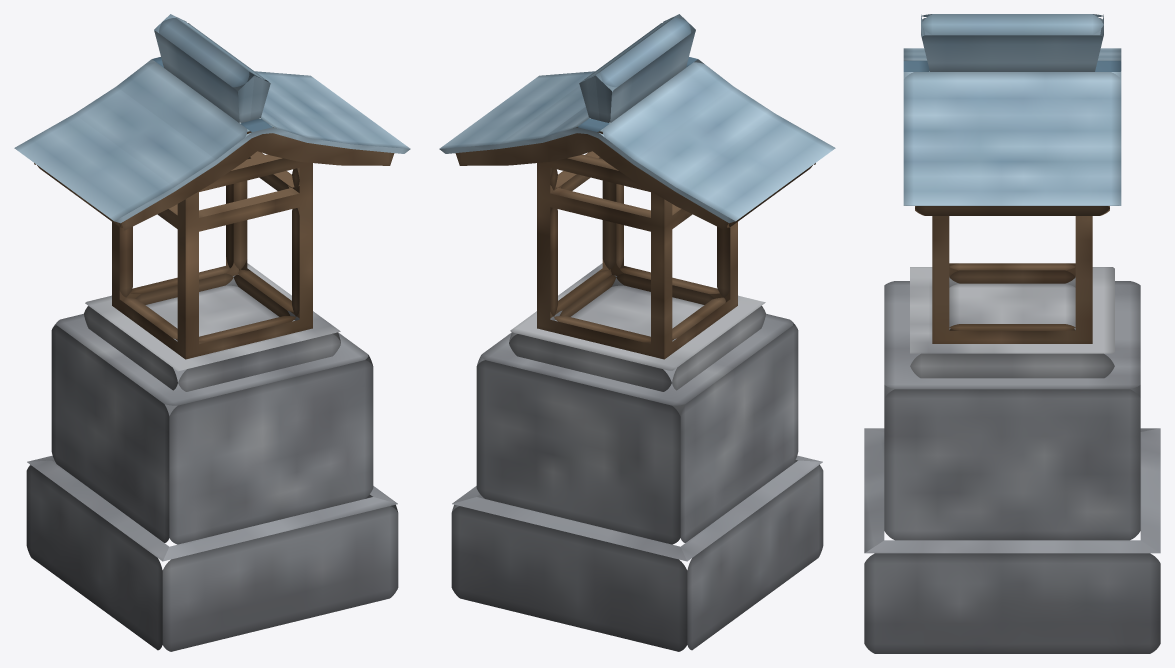
File: shrine_fbx.fbx
3 views of the same model, side by side, from view 1: azimuth 30°, elevation 25°; view 2: azimuth 150°, elevation 25°; view 3: azimuth 270°, elevation 25° (orthographic). The views are drawn at different scales.
Parts seen in each view (by area): view 1: shrine; view 2: shrine; view 3: shrine.
Boxes of the visible parts, left/top/right/bottom form: shrine: left=14, top=14, right=410, bottom=651; shrine: left=439, top=14, right=835, bottom=651; shrine: left=864, top=14, right=1160, bottom=653.
Size of the model in its own units: 106 by 182 by 84.41.
Materials: 1 (1 with a texture image).
